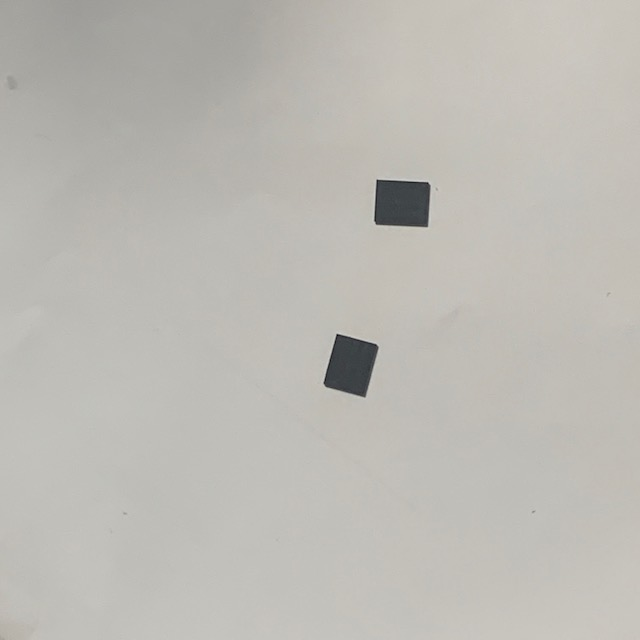IC: (322, 330, 381, 400), (372, 177, 432, 230)
